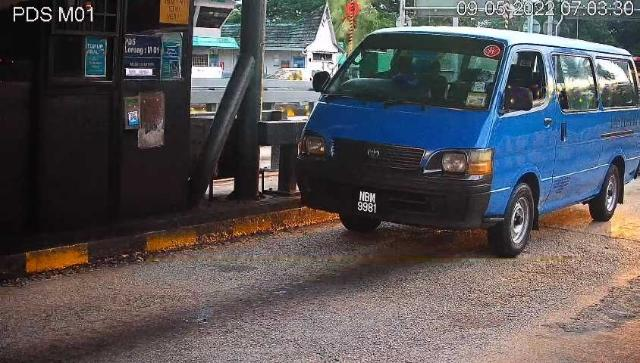License_Plate: (354, 186, 385, 219)
van: (296, 28, 640, 259)
